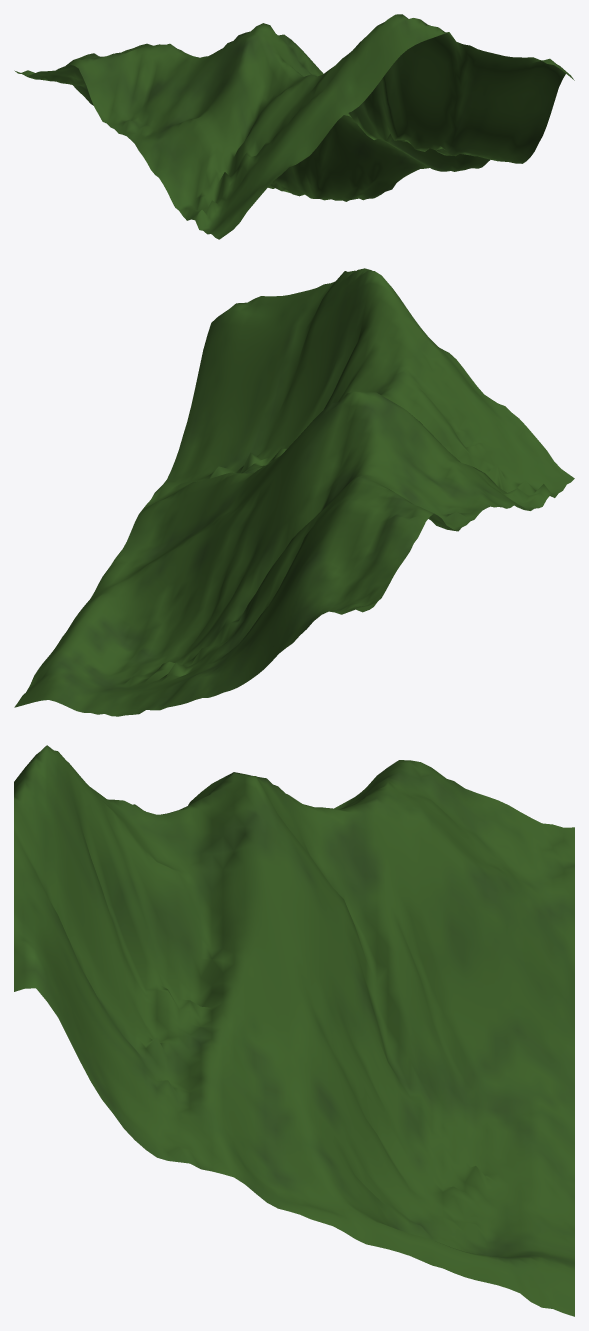
Rendered from chunk13-13_LOD0.obj.
3 renders of one model, top to bottom at view 1: azimuth 30°, elevation 25°; view 2: azimuth 150°, elevation 25°; view 3: azimuth 270°, elevation 25°, orthographic. The views are drawn at different scales.
Visible parts, largest first — view 1: chunk_13_13_LOD0; view 2: chunk_13_13_LOD0; view 3: chunk_13_13_LOD0.
Part boxes in pixels (x1,y1,x2,y2): chunk_13_13_LOD0: (14, 14, 574, 239); chunk_13_13_LOD0: (14, 268, 574, 716); chunk_13_13_LOD0: (14, 745, 574, 1316).
Size of the model in its own units: 1994 by 1801 by 1994.
Materials: 1 (1 with a texture image).
